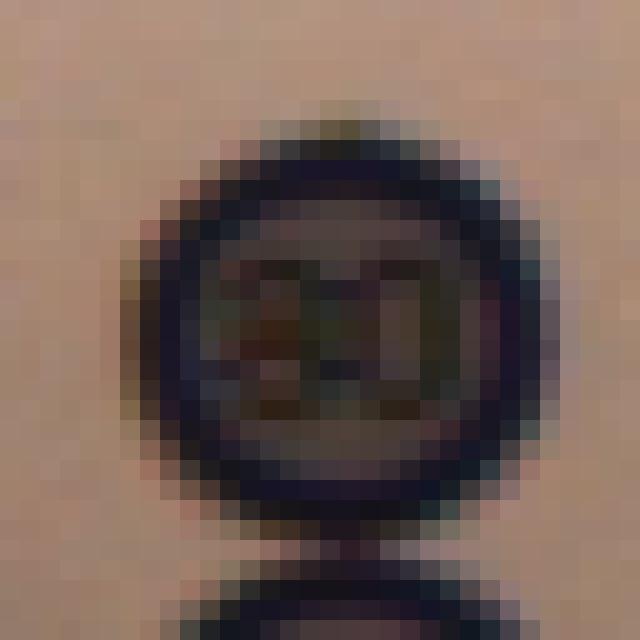SPEED-LIMIT-80: (133, 129, 532, 520)
